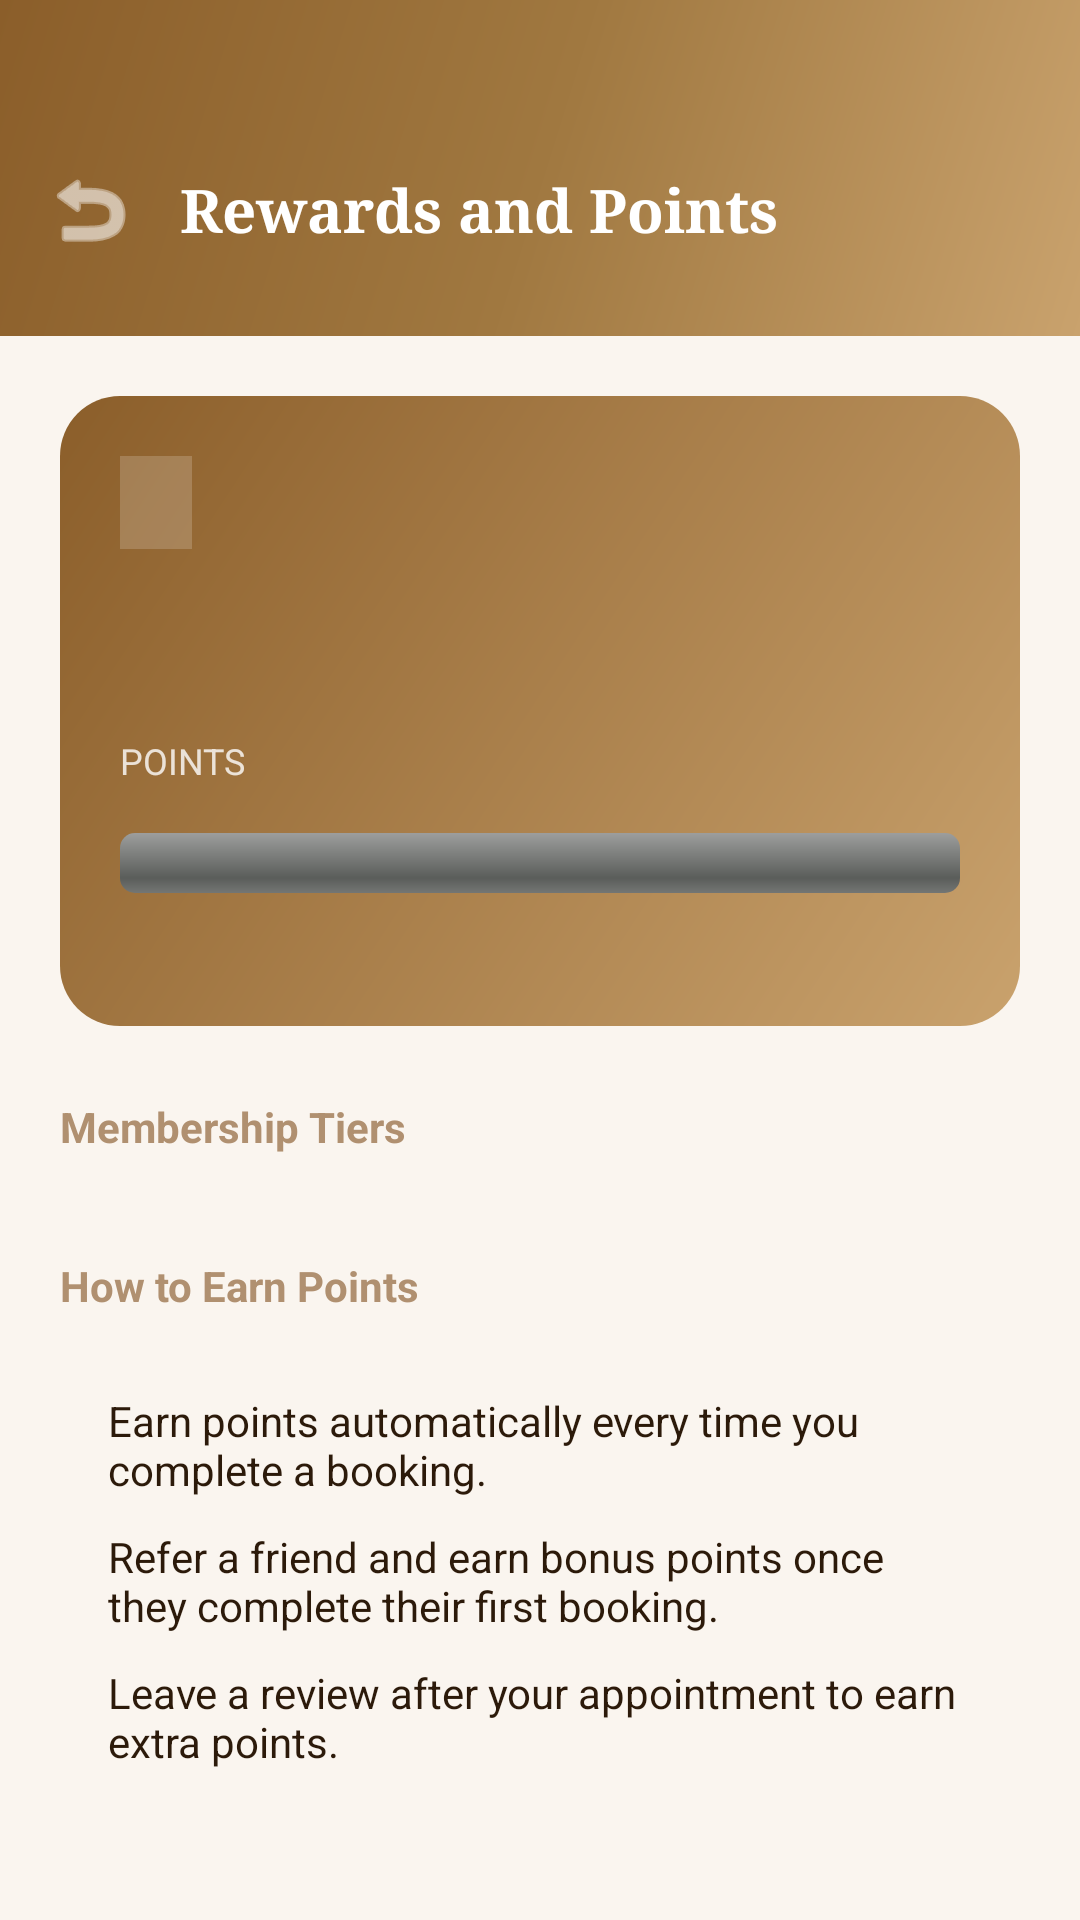

Locate icon controls on the screen. Image size 1080px x 1920px, boxes as (x1, y1, x2, y2).
Back: (57, 179, 126, 242)
